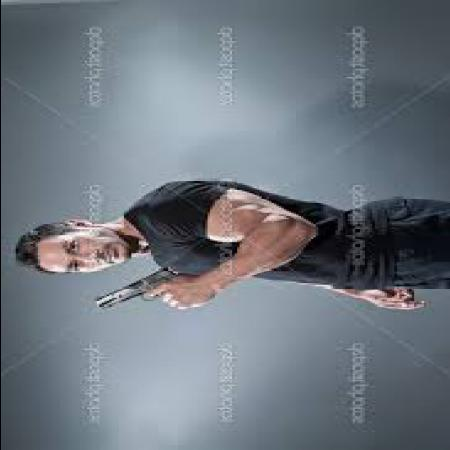Pistol: (91, 264, 175, 308)
